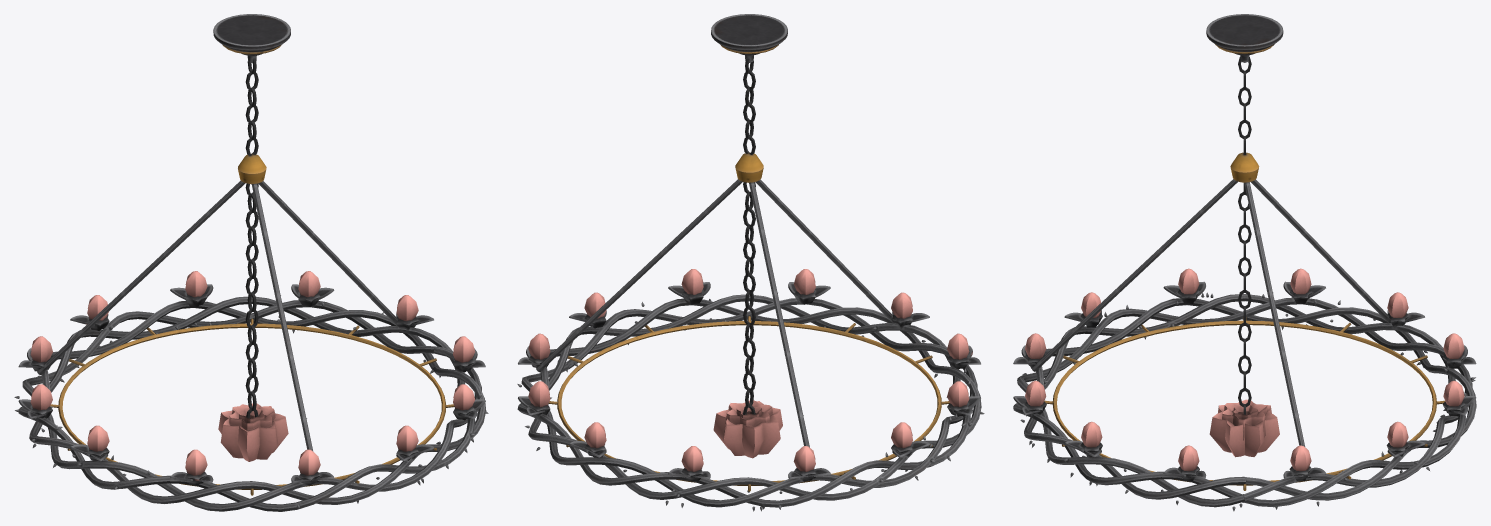
The model's file is ChandelierThornCrown.fbx.
3 renders of one model, left to right at view 1: azimuth 30°, elevation 25°; view 2: azimuth 150°, elevation 25°; view 3: azimuth 270°, elevation 25°, orthographic.
Visible parts, largest first — view 1: ChandelierThornCrown_Main, ChandelierThornCrown_Glow; view 2: ChandelierThornCrown_Main, ChandelierThornCrown_Glow; view 3: ChandelierThornCrown_Main, ChandelierThornCrown_Glow.
Part boxes in pixels (x1,y1,x2,y2): ChandelierThornCrown_Main: [14, 14, 488, 511]; ChandelierThornCrown_Glow: [30, 271, 475, 475]; ChandelierThornCrown_Main: [517, 14, 984, 511]; ChandelierThornCrown_Glow: [528, 269, 969, 471]; ChandelierThornCrown_Main: [1013, 14, 1476, 511]; ChandelierThornCrown_Glow: [1025, 268, 1464, 471].
Size of the model in its own units: 388 by 388 by 385.
